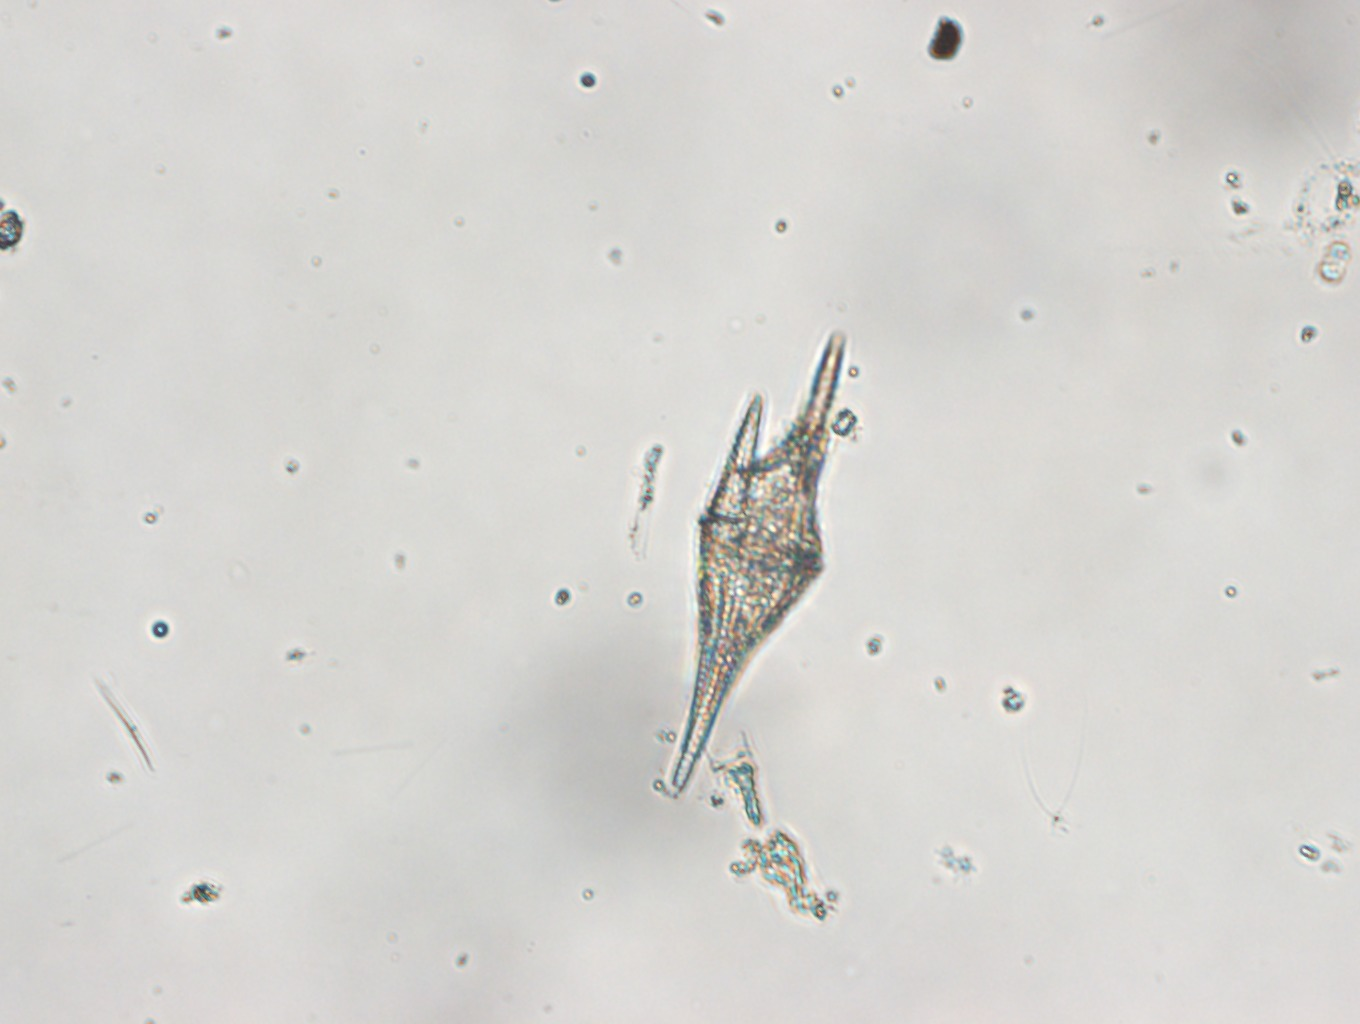ceratium furca: (656, 316, 855, 801)
